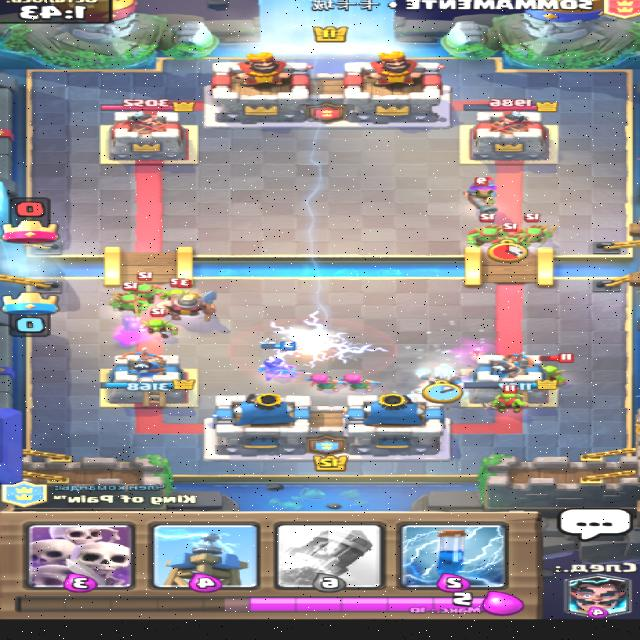Enemy-Goblin: (484, 384, 533, 413), (138, 307, 181, 338), (541, 352, 578, 385), (167, 277, 190, 298)
Enemy-Musketeer: (462, 176, 502, 213)
Enemy-SpearGoblin: (466, 213, 512, 247), (109, 281, 152, 316), (517, 212, 560, 243), (128, 271, 166, 302), (492, 222, 534, 250)
Player-Archer: (341, 372, 384, 392), (305, 373, 345, 391)
Player-IceWizard: (417, 362, 466, 389)
Player-Princess: (256, 340, 314, 381)
